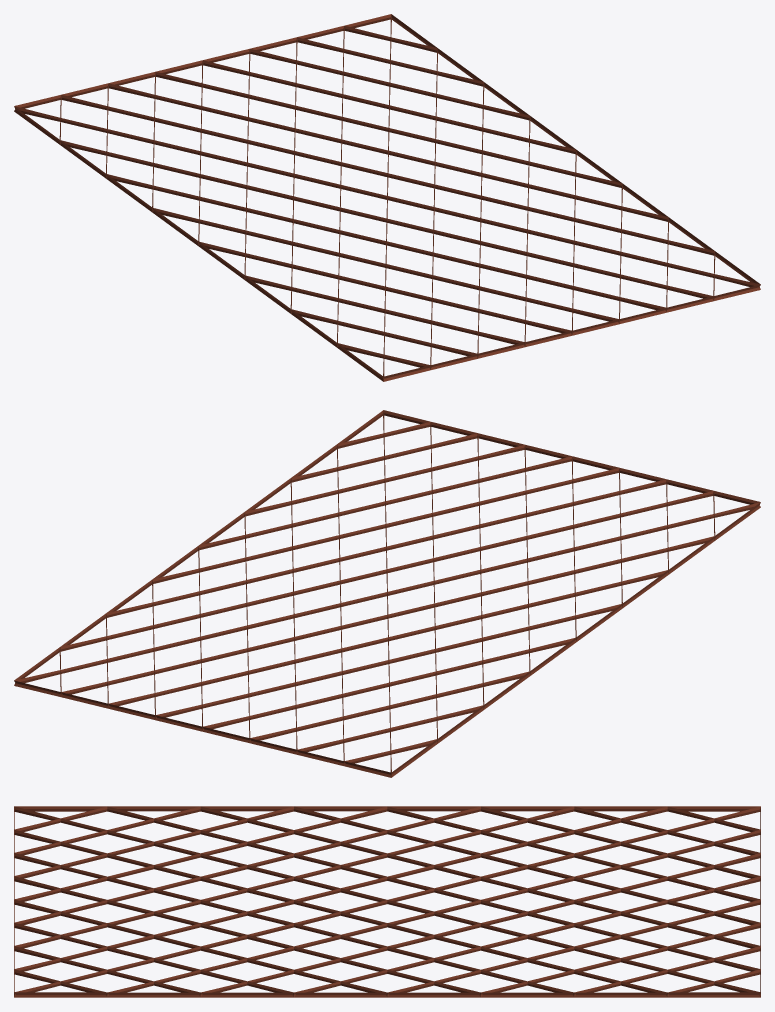
The model's file is Net.fbx.
3 views of the same model, one above another, from view 1: azimuth 30°, elevation 25°; view 2: azimuth 150°, elevation 25°; view 3: azimuth 270°, elevation 25° (orthographic).
Visible parts, largest first — view 1: Plane; view 2: Plane; view 3: Plane.
Boxes of the visible parts, x1,y1,x2,y2 form: Plane: [14, 14, 760, 381]; Plane: [14, 410, 760, 777]; Plane: [14, 806, 760, 997].
Size of the model in its own units: 83.05 by 1.13 by 141.
